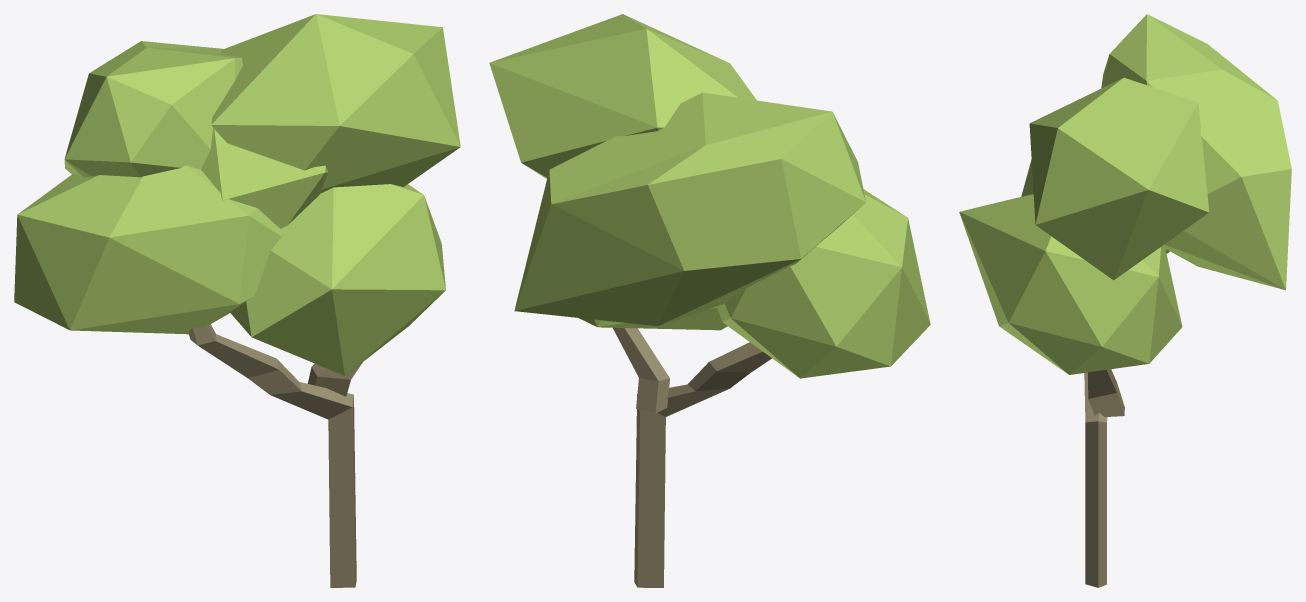
File: Trees_2.fbx
The picture shows the model from 3 angles, left to right: view 1: azimuth 30°, elevation 25°; view 2: azimuth 150°, elevation 25°; view 3: azimuth 270°, elevation 25°; orthographic projection. The views are drawn at different scales.
Parts seen in each view (by area): view 1: Trees_5:polySurface118; view 2: Trees_5:polySurface118; view 3: Trees_5:polySurface118.
Part boxes in pixels (left/top/right/bottom): Trees_5:polySurface118: left=14, top=14, right=460, bottom=587; Trees_5:polySurface118: left=489, top=14, right=930, bottom=587; Trees_5:polySurface118: left=959, top=14, right=1291, bottom=587.
Size of the model in its own units: 8.14 by 10.5 by 6.35.
